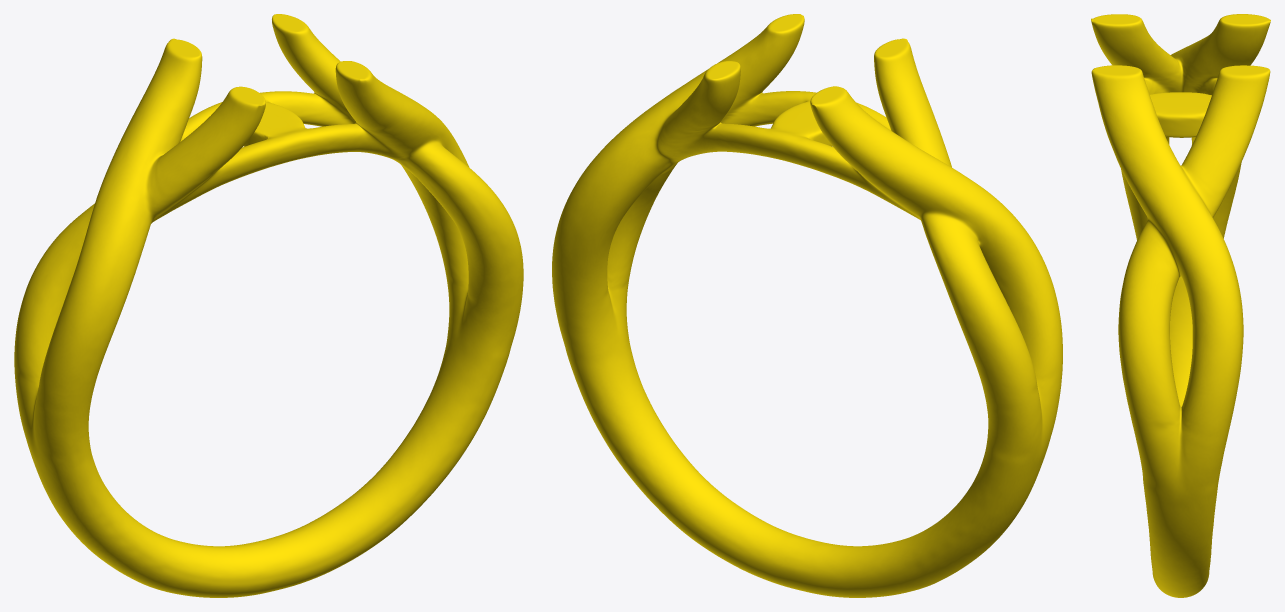
The model's file is Shank_Twist_Plain Gold_A_Single Halo_Band.glb.
3 renders of one model, left to right at view 1: azimuth 30°, elevation 25°; view 2: azimuth 150°, elevation 25°; view 3: azimuth 270°, elevation 25°, orthographic.
Bounding box in the file's own units: 0.0215 × 0.0227 × 0.00706.
